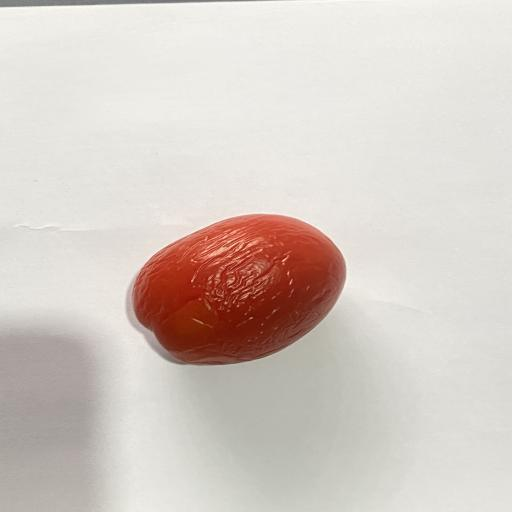ripe: (132, 214, 346, 364)
spoiled: (132, 214, 346, 364)
